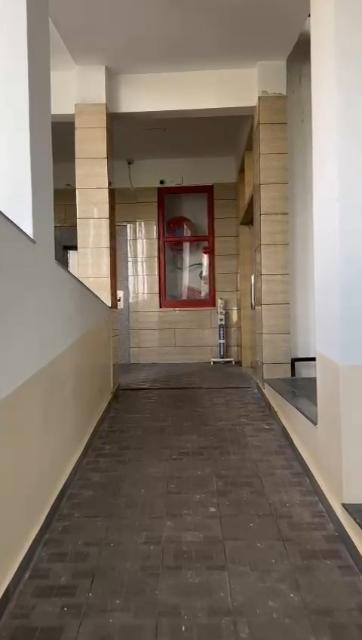floor: (2, 364, 357, 640)
wall: (0, 0, 101, 588), (306, 3, 361, 459), (72, 63, 114, 404), (260, 102, 296, 358), (122, 194, 158, 368), (214, 178, 238, 298), (160, 309, 212, 361)
